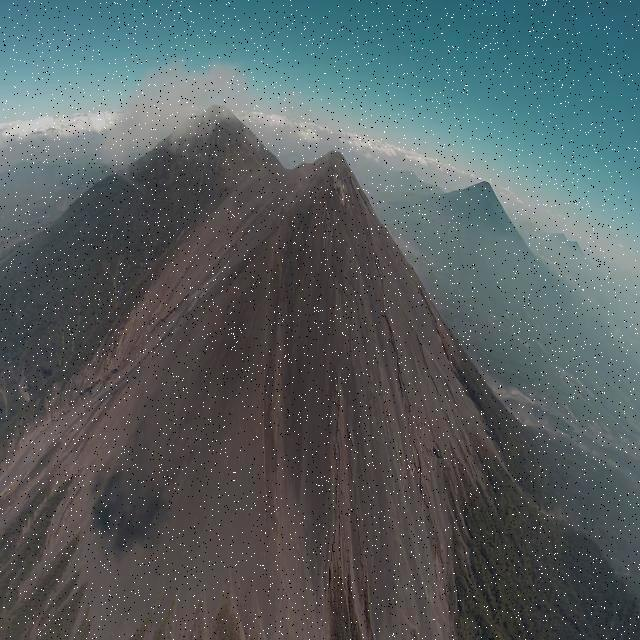Plume: (103, 48, 266, 180)
Summit: (300, 146, 370, 185)
